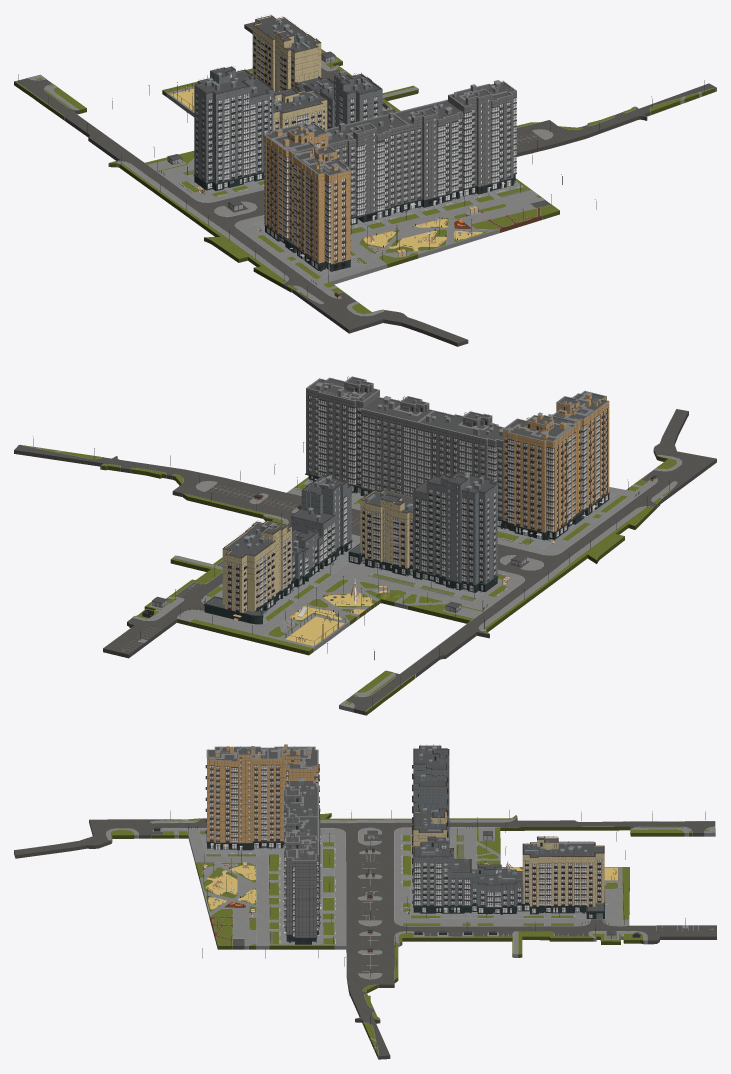
File: Hlobystova_ZU_1621_K2.glb
3 views of the same model, one above another, from view 1: azimuth 30°, elevation 25°; view 2: azimuth 150°, elevation 25°; view 3: azimuth 270°, elevation 25° (orthographic). The views are drawn at different scales.
Parts seen in each view (by area): view 1: SM_Khlobystova_ZU_16_2_1_Ground, SM_Hlobystova_ZU_16_2_1_006_Main, SM_Khlobystova_ZU_16_2_1_Main_001, SM_Khlobystova_ZU_16_2_1_Main_002, SM_Khlobystova_ZU_16_2_1_GroundEl; view 2: SM_Khlobystova_ZU_16_2_1_Ground, SM_Hlobystova_ZU_16_2_1_006_Main, SM_Khlobystova_ZU_16_2_1_Main_001, SM_Khlobystova_ZU_16_2_1_Main_002, SM_Khlobystova_ZU_16_2_1_GroundEl; view 3: SM_Khlobystova_ZU_16_2_1_Ground, SM_Hlobystova_ZU_16_2_1_006_Main, SM_Khlobystova_ZU_16_2_1_Main_002, SM_Khlobystova_ZU_16_2_1_Main_001, SM_Khlobystova_ZU_16_2_1_GroundEl.
Part boxes in pixels (x1,y1,x2,y2): SM_Khlobystova_ZU_16_2_1_Ground: (14,22,716,346); SM_Hlobystova_ZU_16_2_1_006_Main: (263,80,516,271); SM_Khlobystova_ZU_16_2_1_Main_001: (193,66,327,190); SM_Khlobystova_ZU_16_2_1_Main_002: (251,14,382,128); SM_Khlobystova_ZU_16_2_1_GroundEl: (18,57,704,297); SM_Khlobystova_ZU_16_2_1_Ground: (14,409,716,715); SM_Hlobystova_ZU_16_2_1_006_Main: (305,376,609,540); SM_Khlobystova_ZU_16_2_1_Main_001: (348,470,498,592); SM_Khlobystova_ZU_16_2_1_Main_002: (204,473,352,624); SM_Khlobystova_ZU_16_2_1_GroundEl: (33,436,669,707); SM_Khlobystova_ZU_16_2_1_Ground: (14,813,716,1059); SM_Hlobystova_ZU_16_2_1_006_Main: (205,744,320,944); SM_Khlobystova_ZU_16_2_1_Main_002: (412,836,604,918); SM_Khlobystova_ZU_16_2_1_Main_001: (412,744,449,886); SM_Khlobystova_ZU_16_2_1_GroundEl: (154,810,705,1049).
Size of the model in its own units: 287 by 56.63 by 351.
6 materials, 5 textured.
